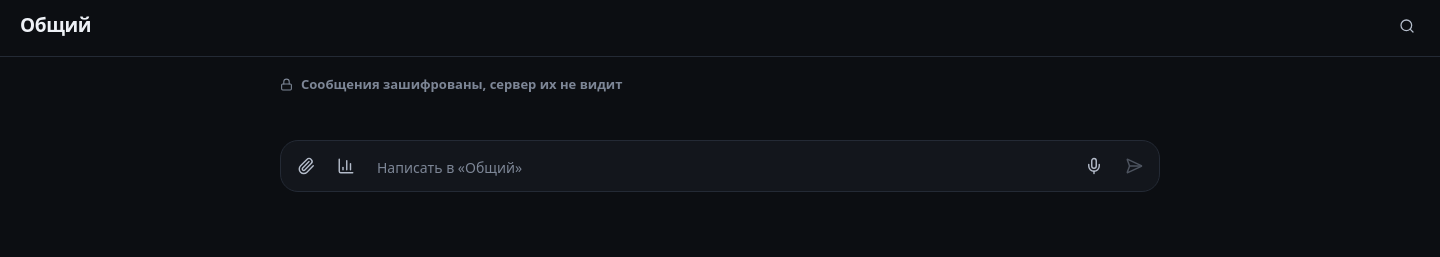
Test: big files › a file from disk up to 2 GB goes; a bigger one is refused before sending
Click the button named "Прикрепить" at [306, 166], box [287, 147, 325, 185]
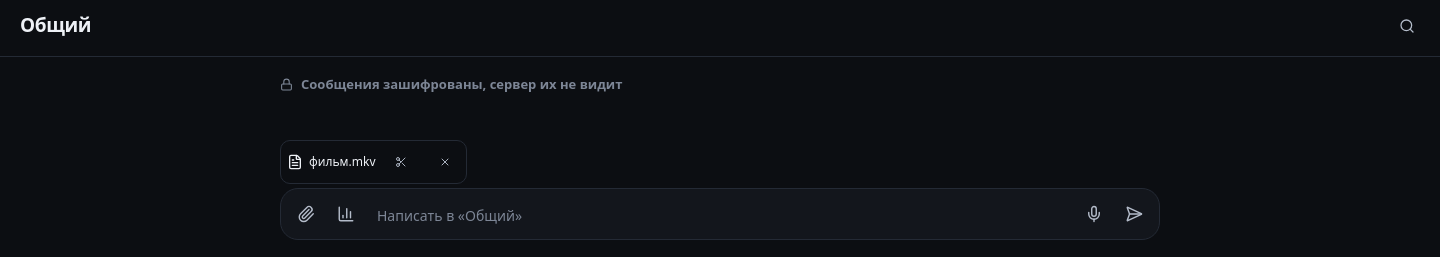
Expected: the list items read "фильм.mkv", in this order, [280, 140, 466, 184]
